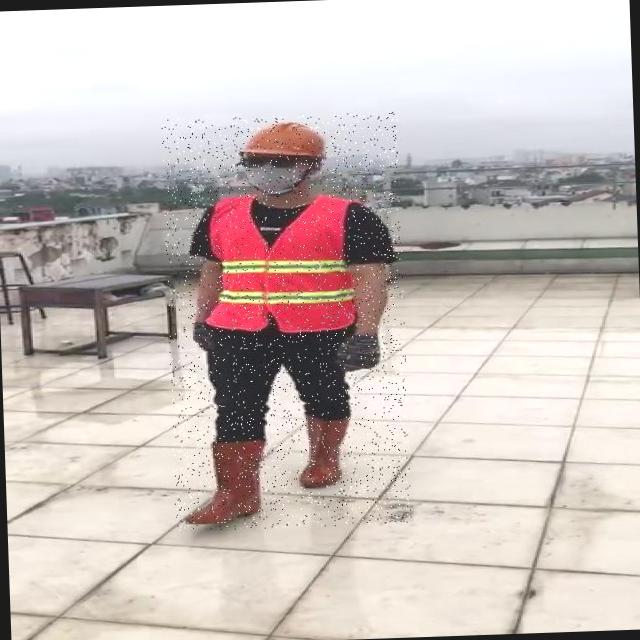boots: (182, 437, 268, 524), (296, 414, 356, 488)
helmet: (241, 116, 327, 160)
vest: (205, 194, 365, 334)
